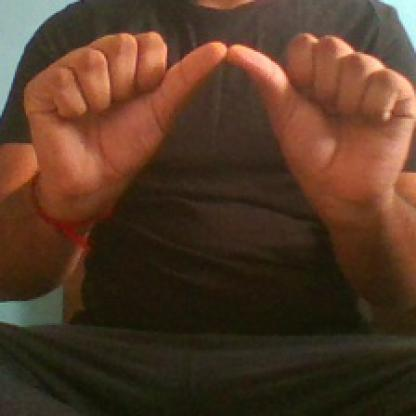A: (6, 22, 414, 221)
